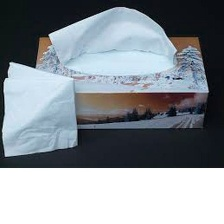book: (29, 30, 214, 135)
tissue: (44, 0, 185, 79), (0, 57, 84, 161)
